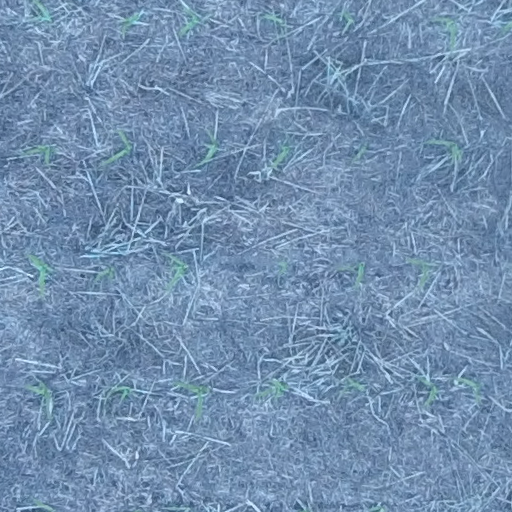planta: (172, 379, 209, 416), (104, 130, 132, 163), (26, 253, 48, 294), (431, 16, 457, 50), (452, 375, 481, 404), (164, 256, 188, 291), (425, 138, 463, 160), (336, 262, 365, 289), (196, 134, 218, 167), (254, 379, 288, 399), (405, 257, 429, 285), (178, 7, 201, 36), (21, 143, 52, 163), (416, 376, 438, 404), (269, 142, 291, 167), (26, 379, 52, 398), (119, 12, 140, 35), (261, 12, 285, 29), (109, 385, 132, 400), (93, 265, 114, 281), (345, 377, 365, 391), (340, 11, 354, 28)
